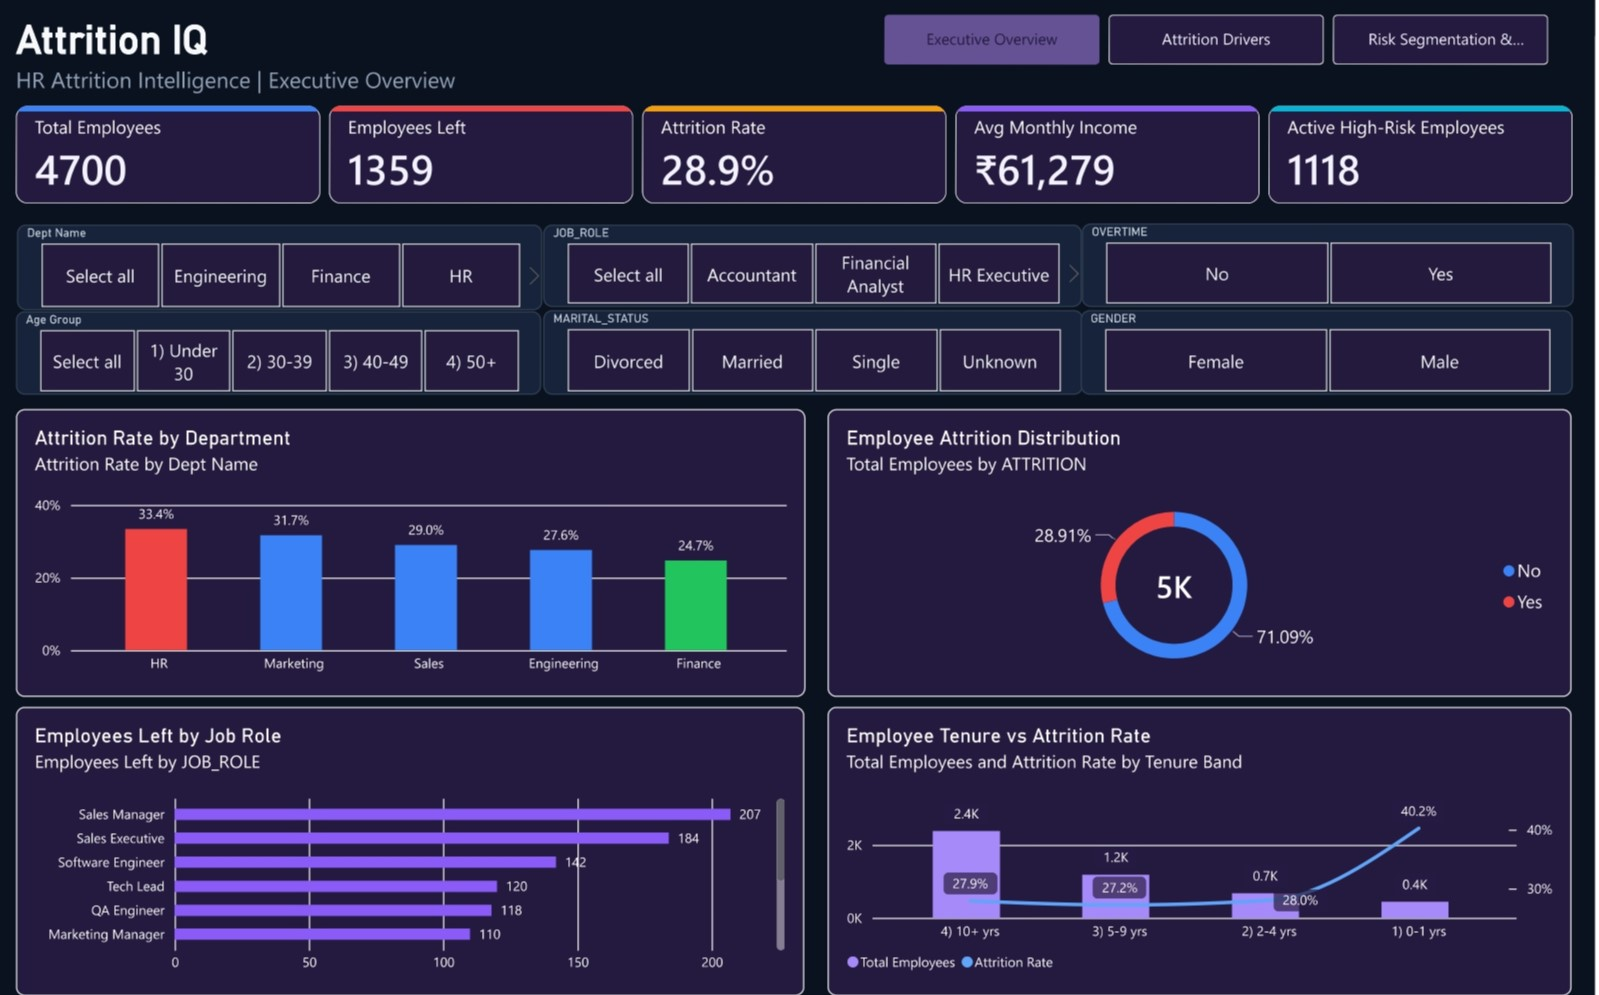

This screenshot's page, from the dashboard's own definition file:
{"tool":"powerbi","page":{"name":"Executive Overview","canvas":[1440,900],"ordinal":0},"visuals":[{"type":"cardVisual","fields":{"Data":["_Measures.Total Employees","_Measures.Employees Left","_Measures.Attrition Rate","_Measures.Avg Monthly Income","_Measures.Active High-Risk Employees"]},"box":[18.3,96.7,1401.7,88.3],"z":0},{"type":"textbox","title":"Attrition IQ","box":[18,16,1422,80],"z":1000},{"type":"slicer","fields":{"Values":["HR_ATTRITION_FINAL.Dept Name"]},"box":[18.6,204.3,473.3,76.7],"z":2000},{"type":"slicer","fields":{"Values":["HR_ATTRITION_FINAL.JOB_ROLE"]},"box":[492.5,203.7,485.7,74.3],"z":3000},{"type":"slicer","fields":{"Values":["HR_ATTRITION_FINAL.OVERTIME"]},"box":[978.3,203.3,442.5,75],"z":4000},{"type":"slicer","fields":{"Values":["HR_ATTRITION_FINAL.Age Group"]},"box":[18.3,281.7,472.9,75.7],"z":5000},{"type":"slicer","fields":{"Values":["HR_ATTRITION_FINAL.MARITAL_STATUS"]},"box":[492.9,281.4,485.7,75.7],"z":6000},{"type":"slicer","fields":{"Values":["HR_ATTRITION_FINAL.GENDER"]},"box":[977.1,281.4,442.9,75.7],"z":7000},{"type":"clusteredColumnChart","title":"Attrition Rate by Department","fields":{"Category":["HR_ATTRITION_FINAL.Dept Name"],"Y":["_Measures.Attrition Rate"]},"box":[17.5,370,711.2,258.8],"z":8000},{"type":"donutChart","title":"Employee Attrition Distribution","fields":{"Category":["HR_ATTRITION_FINAL.ATTRITION"],"Y":["_Measures.Total Employees"]},"box":[749.4,370.3,669.7,258.7],"z":9000},{"type":"clusteredBarChart","title":"Employees Left by Job Role","fields":{"Category":["HR_ATTRITION_FINAL.JOB_ROLE"],"Y":["_Measures.Employees Left"]},"box":[18.3,638.3,710,260],"z":10000},{"type":"lineClusteredColumnComboChart","title":"Employee Tenure vs Attrition Rate","fields":{"Category":["HR_ATTRITION_FINAL.Tenure Band"],"Y":["_Measures.Total Employees"],"Y2":["_Measures.Attrition Rate"]},"box":[749,638,670,260],"z":11000},{"type":"pageNavigator","box":[800,15,600,45],"z":11001}]}

Visuals, with their boxes in screenshot pixels (x1, y1, x2, y2), scaled from the page's 1440x900 canvas onto the 1599x995 screenshot:
cardVisual - _Measures.Total Employees x _Measures.Employees Left: x1=20 y1=107 x2=1577 y2=205
"Attrition IQ" textbox: x1=20 y1=18 x2=1598 y2=106
slicer - HR_ATTRITION_FINAL.Dept Name: x1=21 y1=226 x2=546 y2=311
slicer - HR_ATTRITION_FINAL.JOB_ROLE: x1=547 y1=225 x2=1086 y2=307
slicer - HR_ATTRITION_FINAL.OVERTIME: x1=1086 y1=225 x2=1578 y2=308
slicer - HR_ATTRITION_FINAL.Age Group: x1=20 y1=311 x2=545 y2=395
slicer - HR_ATTRITION_FINAL.MARITAL_STATUS: x1=547 y1=311 x2=1087 y2=395
slicer - HR_ATTRITION_FINAL.GENDER: x1=1085 y1=311 x2=1577 y2=395
"Attrition Rate by Department" clusteredColumnChart: x1=19 y1=409 x2=809 y2=695
"Employee Attrition Distribution" donutChart: x1=832 y1=409 x2=1576 y2=695
"Employees Left by Job Role" clusteredBarChart: x1=20 y1=706 x2=809 y2=993
"Employee Tenure vs Attrition Rate" lineClusteredColumnComboChart: x1=832 y1=705 x2=1576 y2=993
pageNavigator: x1=888 y1=17 x2=1555 y2=66
